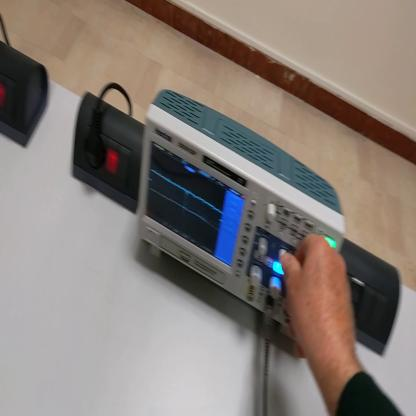hand: (281, 232, 359, 369)
oscilloscope: (133, 87, 347, 336)
socket: (72, 93, 147, 218), (2, 41, 52, 154)
